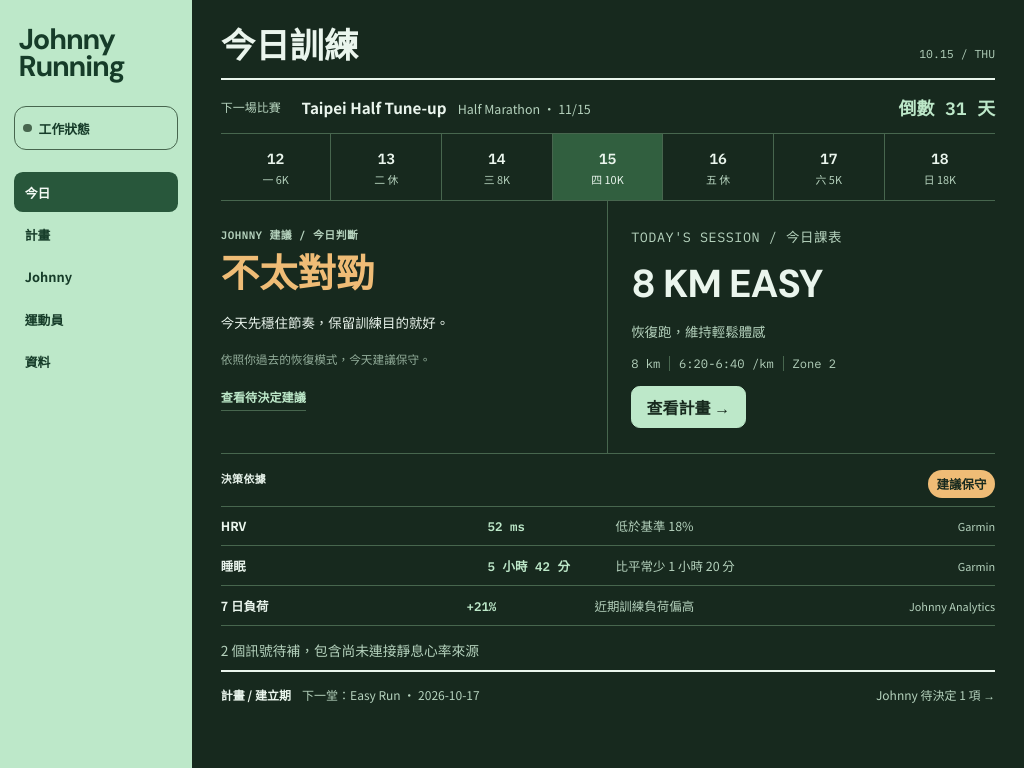
it: Johnny product shell › explains an unscheduled day in the inline preview
This screenshot has width=1024, height=768.
Click the button "16 五 休".
click(719, 167)  # box top-left (663, 134), bottom-right (774, 200)
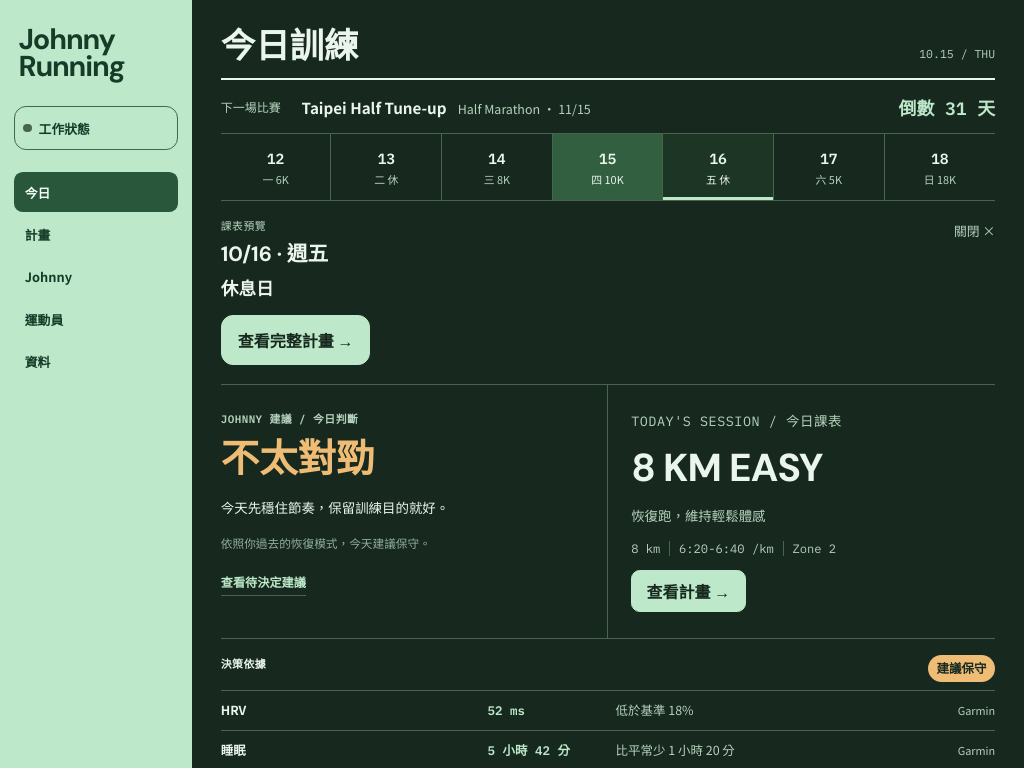
Now the element with test id "today-day-preview" shows "休息日", box top-left (221, 275), bottom-right (274, 300)
